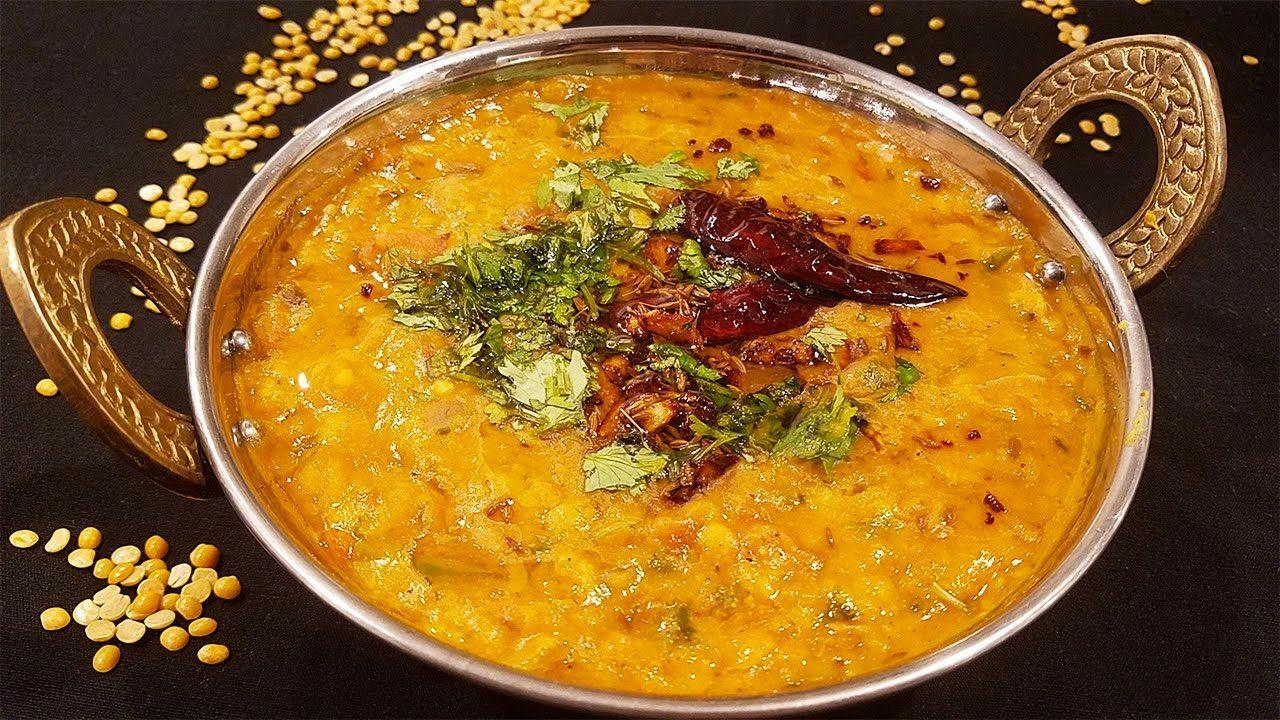Dal: (236, 75, 1108, 696)
